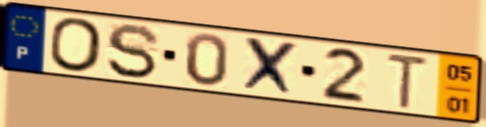0: (182, 31, 232, 89)
2: (321, 46, 371, 108)
O: (48, 16, 105, 75)
S: (104, 21, 163, 81)
T: (384, 51, 431, 111)
X: (238, 34, 302, 100)
